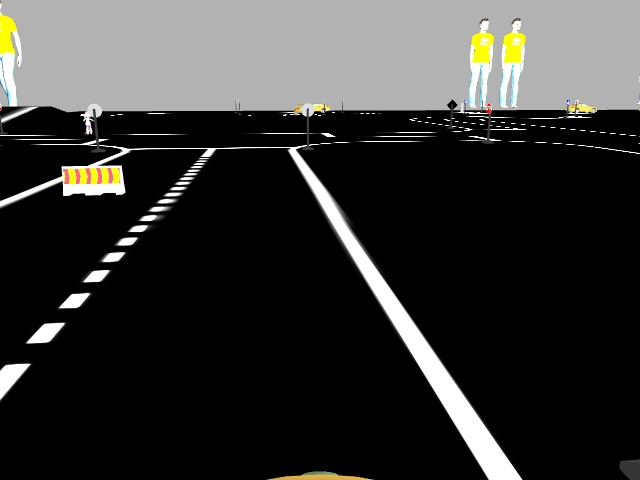ClosedRoadStand: (62, 166, 125, 195)
